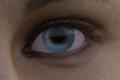eye: (43, 27, 74, 52)
